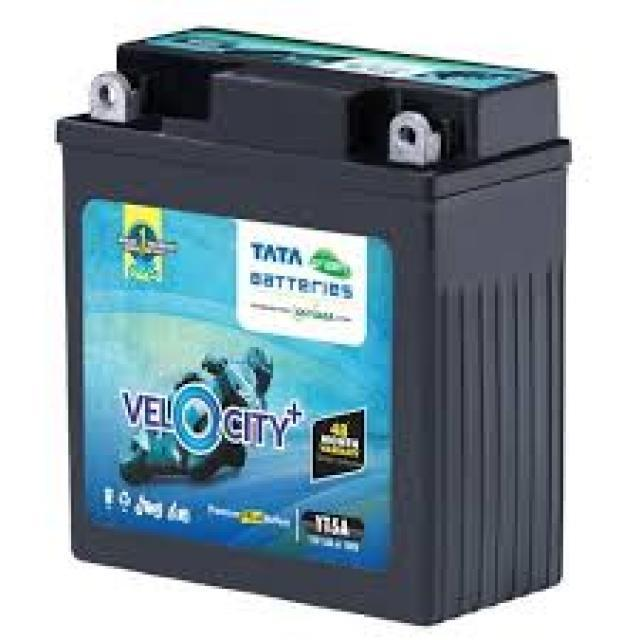battery: (55, 32, 568, 626)
